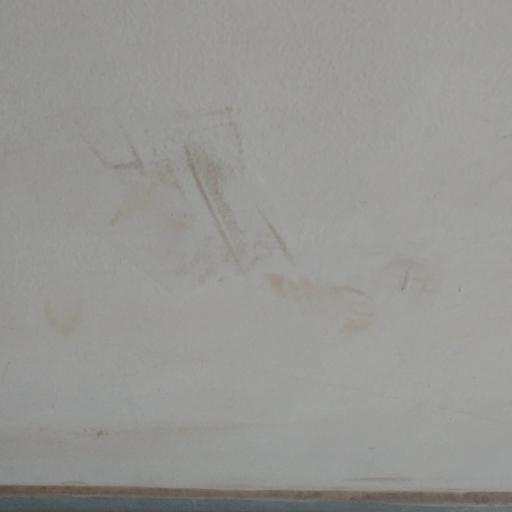stain: (84, 99, 461, 365)
